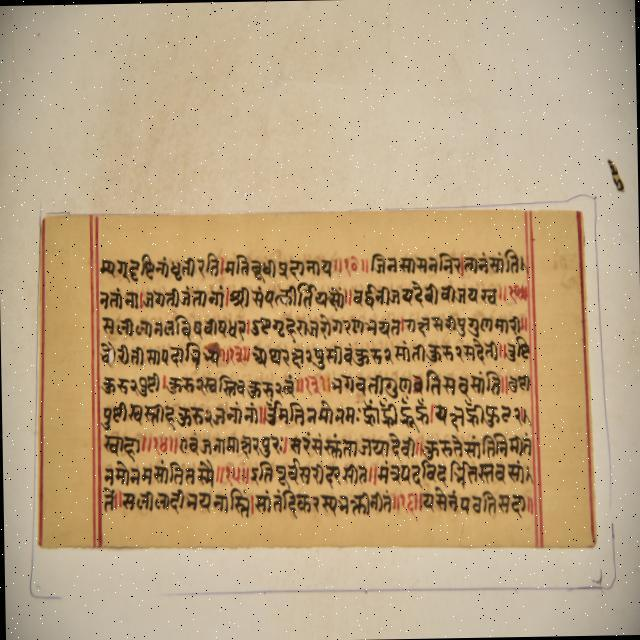text_paragraph: (38, 212, 597, 549)
